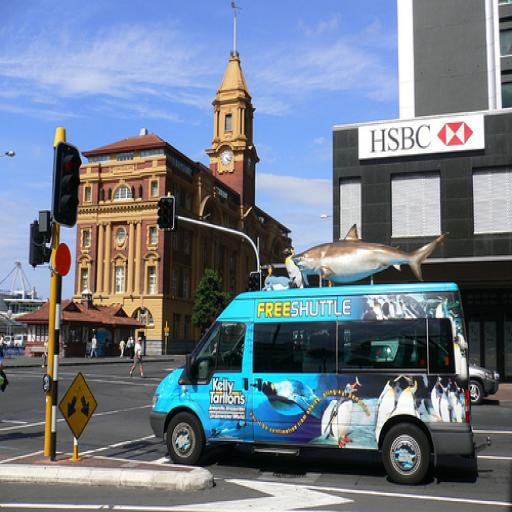person: (128, 334, 147, 380)
